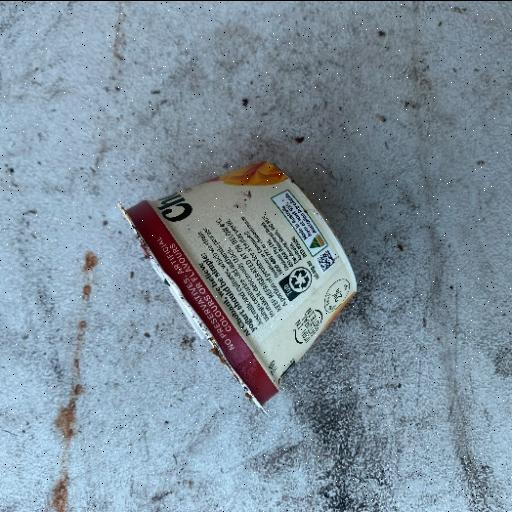Plastic: (116, 158, 360, 418)
